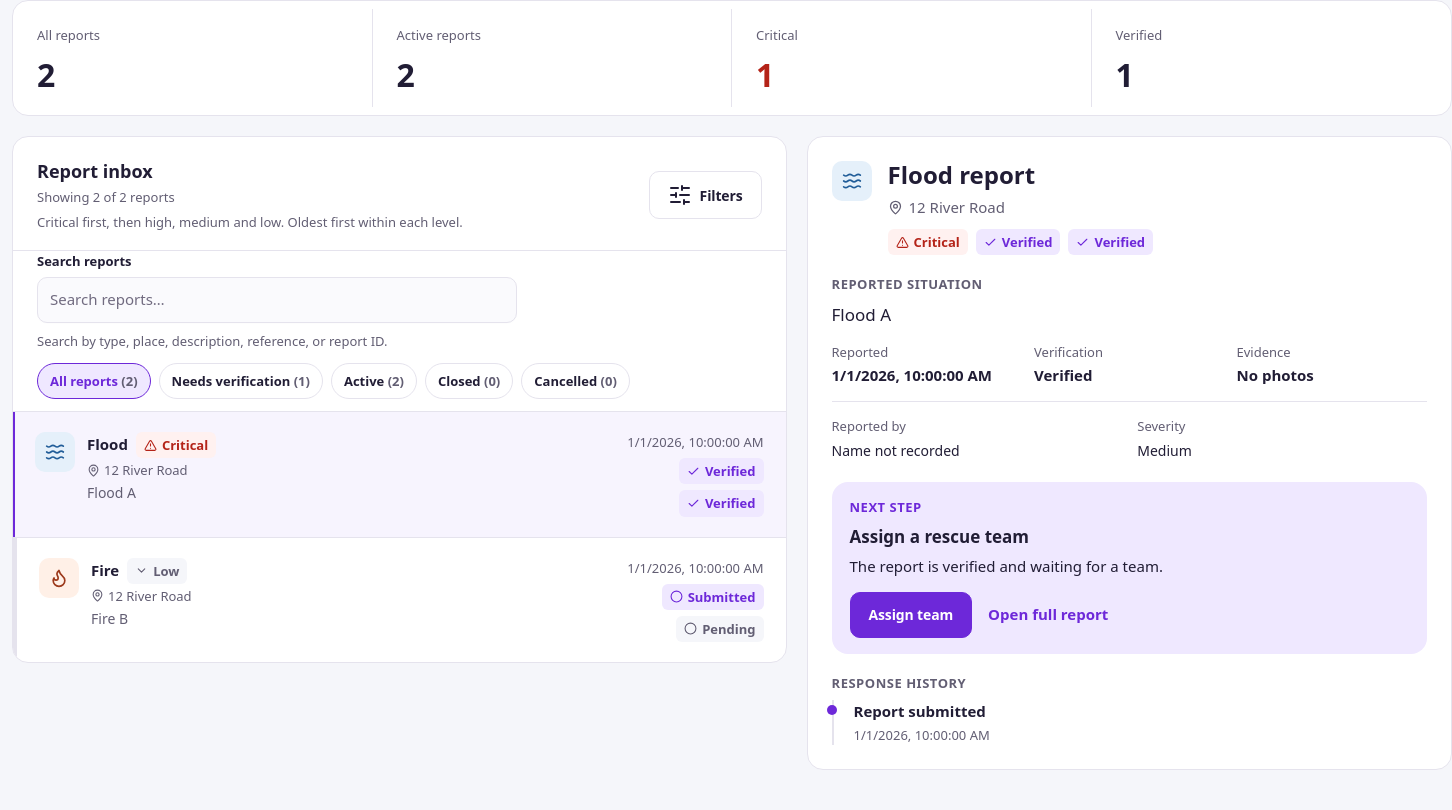
Test: ReportQueue › filter Priority narrows rows
Click the button "Filters".
click(705, 195)  # box 649,171 -> 762,219
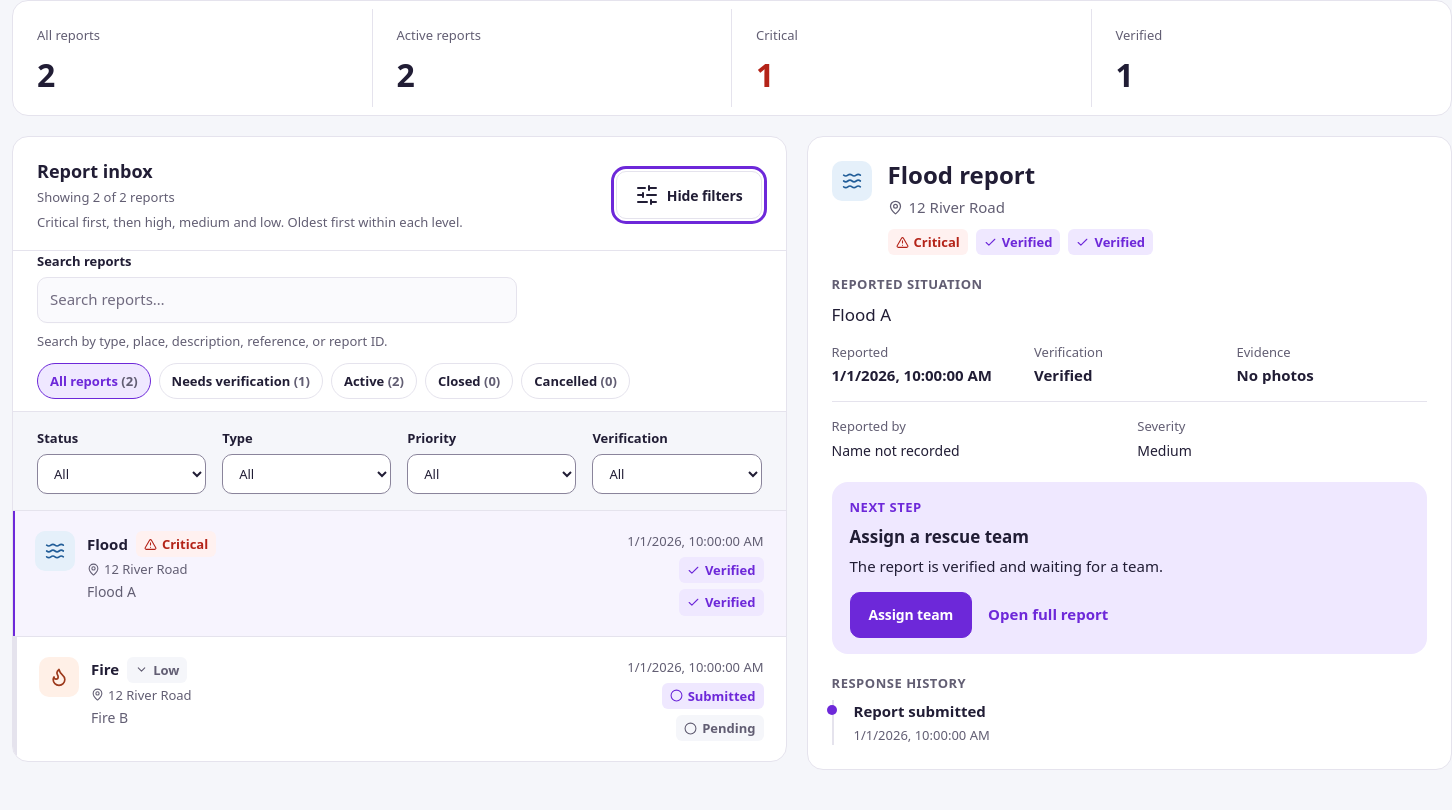
Select "low" in the dropdown labelled "Priority" at (492, 474), box 407,454 -> 576,494
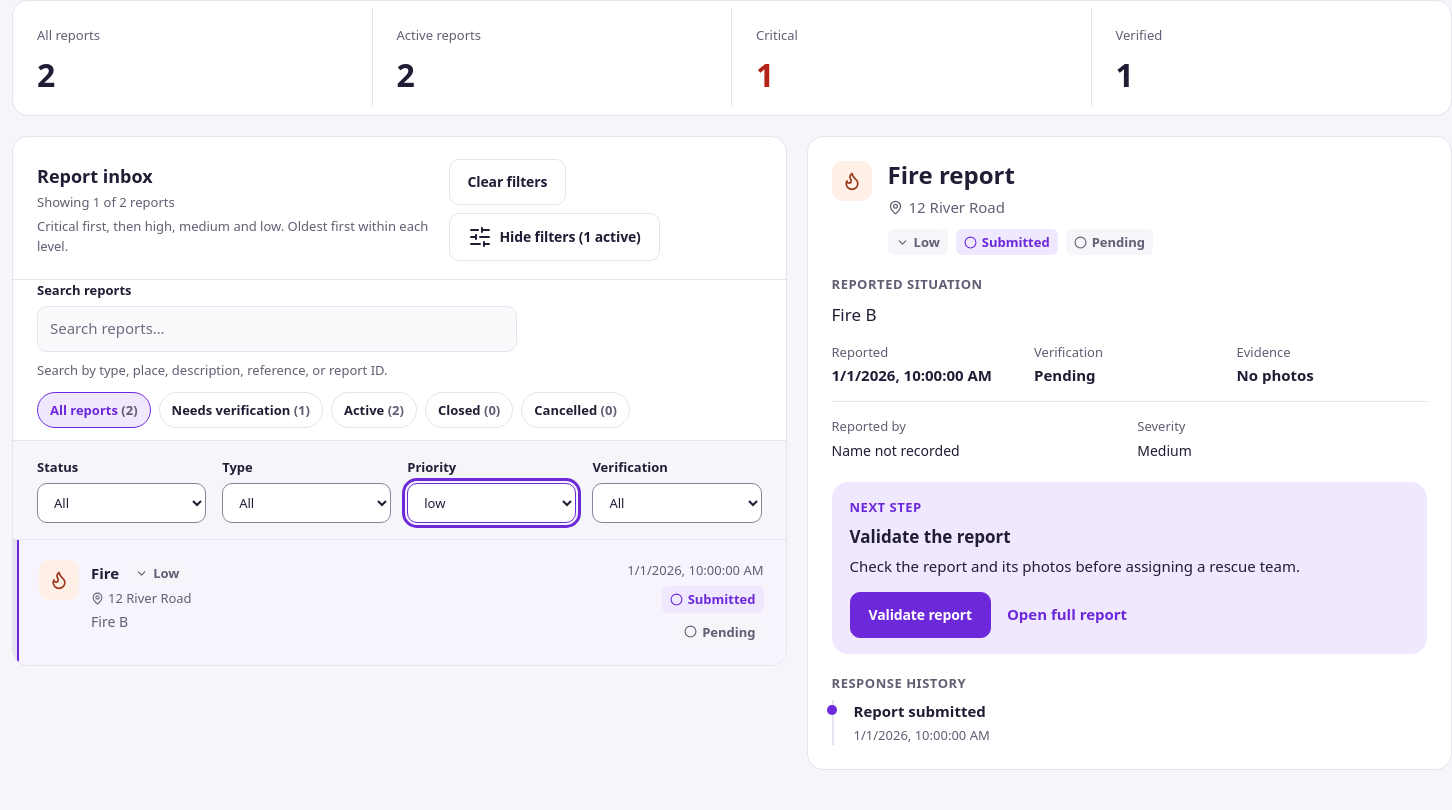
Expected: the text "Fire B" below "Status" is shown, 91,612 -> 128,631
Result: the button "Flood A" is gone
